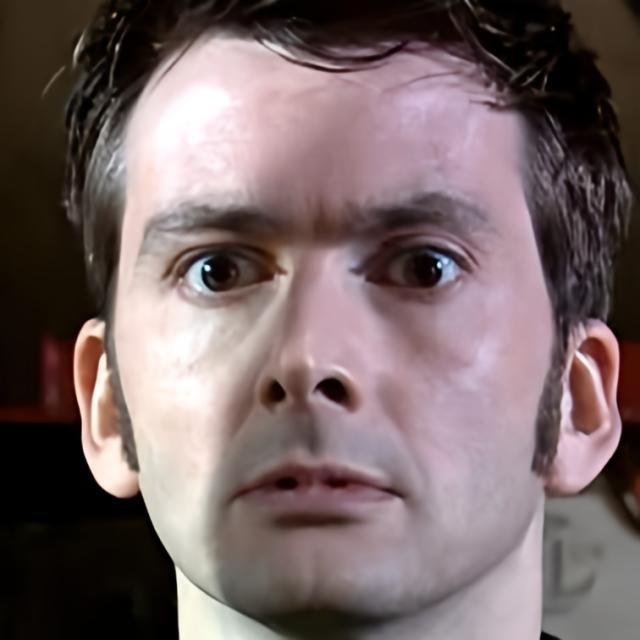fear: (110, 30, 550, 624)
